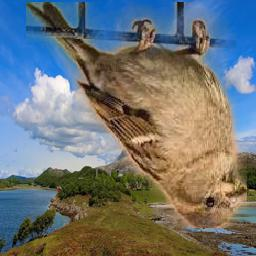Sparrow: (27, 2, 248, 228)
